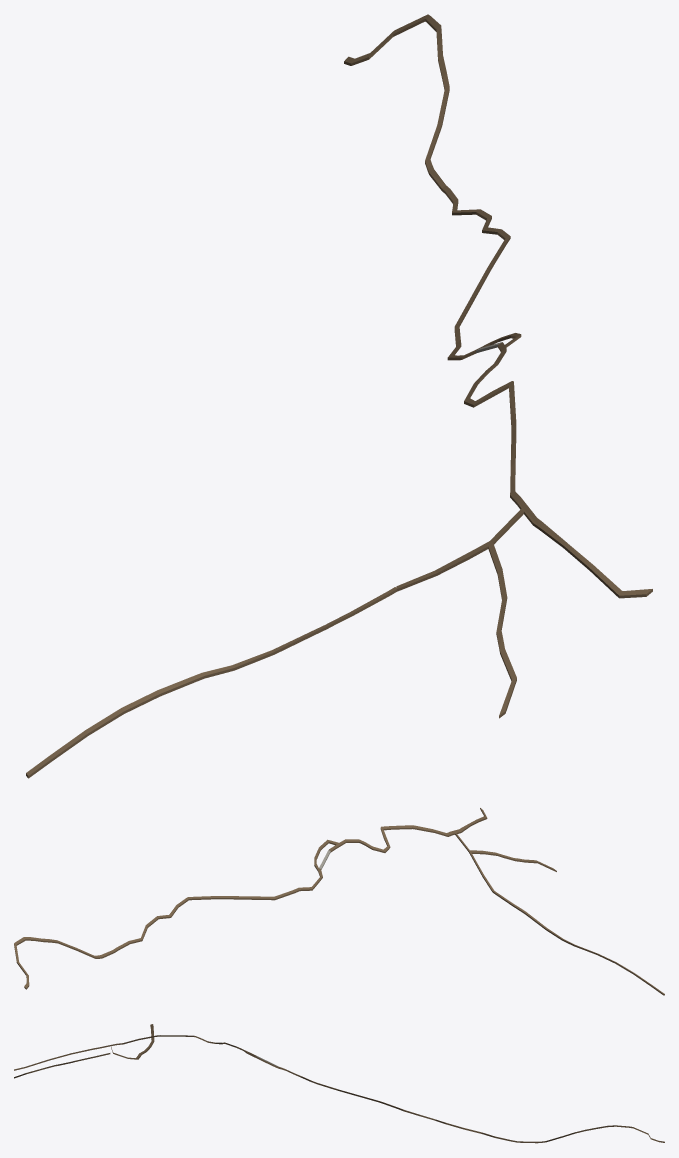
3 views of the same model, one above another, from view 1: azimuth 30°, elevation 25°; view 2: azimuth 150°, elevation 25°; view 3: azimuth 270°, elevation 25° (orthographic). The views are drawn at different scales.
Bounding box in the file's own units: 236 × 63.23 × 292.
